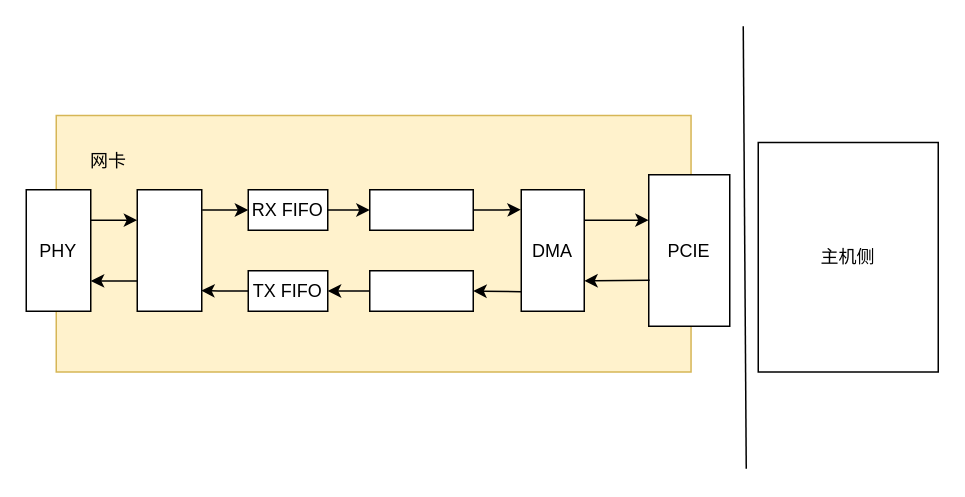
This 965x497 diagram has some shape labels left out. The centre of each missing label's shape, as x and y in pixels:
"MAC" belongs at (169,249).
"RSS/Filter" belongs at (420,209).
"TSO" belongs at (420,290).
